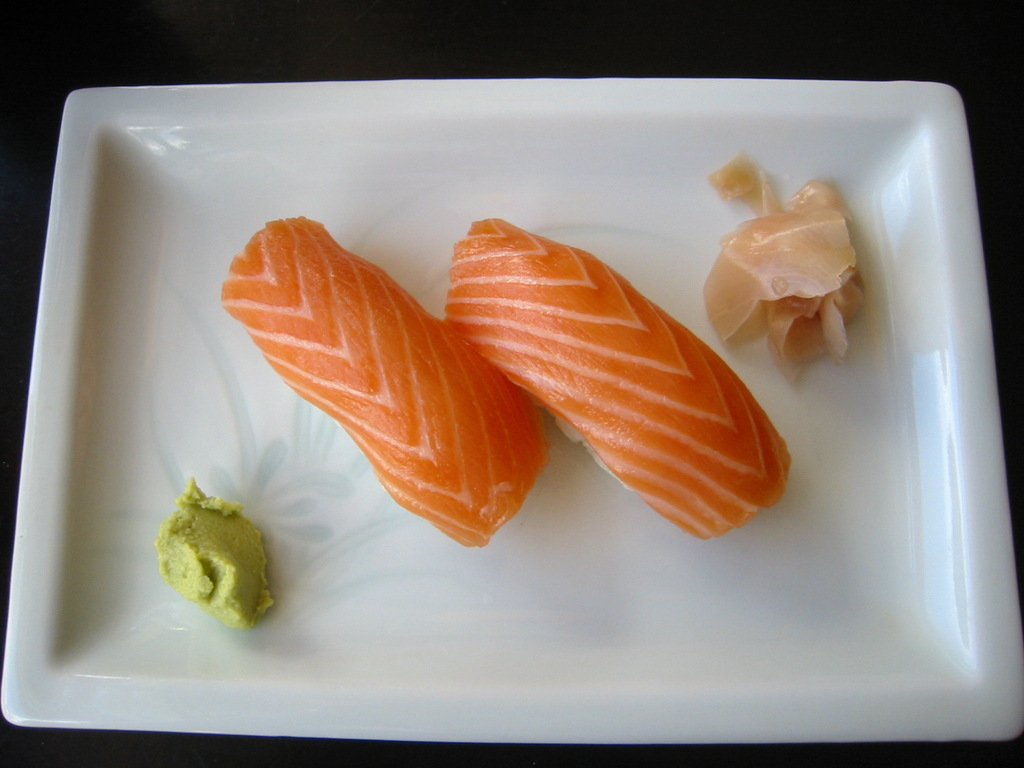sushi: (449, 221, 788, 544), (227, 223, 540, 550)
